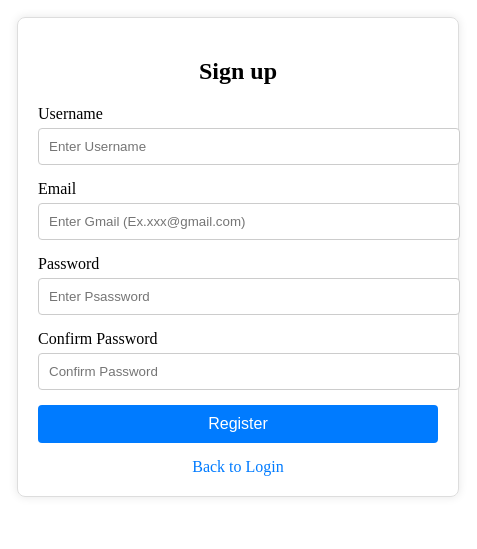
Test: Register Component - Tests › shows error for password less than 8 characters
The image size is (477, 549).
Type "short" into the password field labelled "Password" at [249, 296], box x1=38 y1=278 x2=460 y2=315
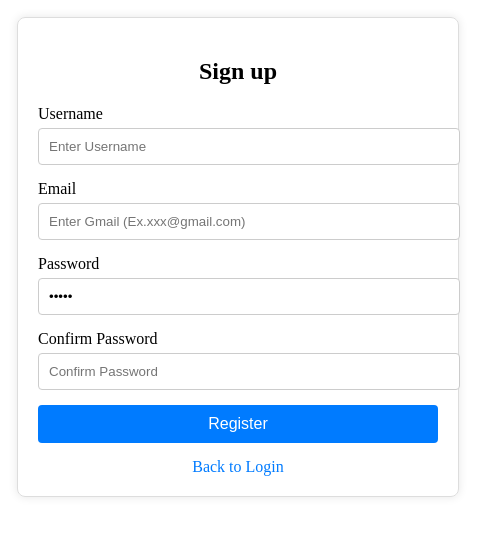
Leave the password field labelled "Password", box x1=38 y1=278 x2=460 y2=315
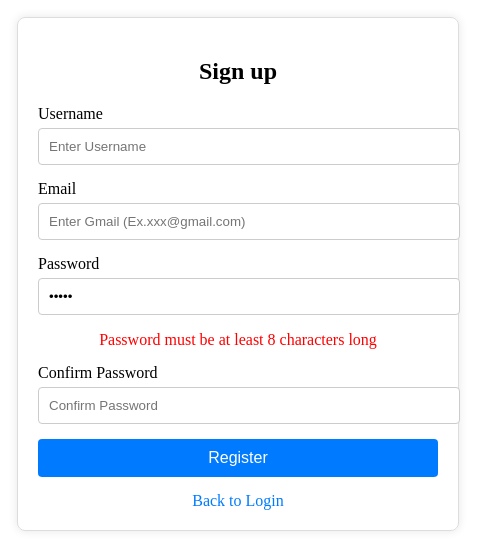
Expected: the text "Password must be at least 8 characters long" is shown, x1=99 y1=331 x2=377 y2=348
